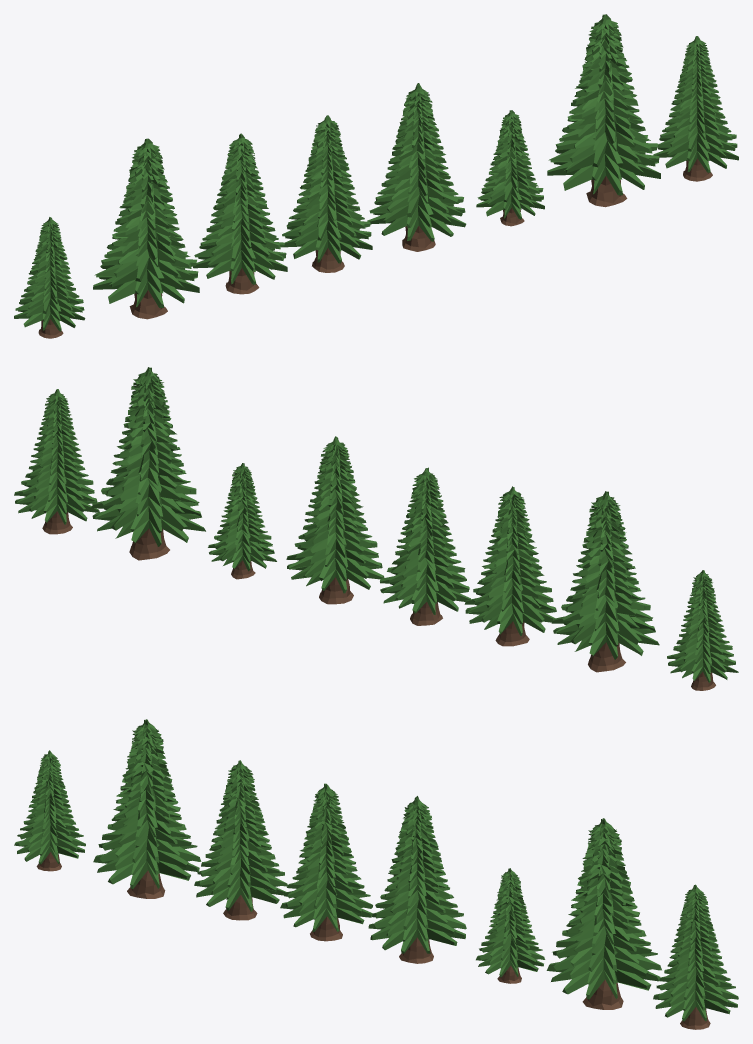
The model's file is christmastrees.fbx.
3 views of the same model, one above another, from view 1: azimuth 30°, elevation 25°; view 2: azimuth 150°, elevation 25°; view 3: azimuth 330°, elevation 25° (orthographic).
Visible parts, largest first — view 1: CT2, CT7, CT4, CT6, CT5, CT1, CT8, CT3; view 2: CT2, CT7, CT4, CT6, CT5, CT1, CT8, CT3; view 3: CT2, CT7, CT4, CT6, CT5, CT1, CT8, CT3.
Part boxes in pixels (x1=…): CT2: x1=547, y1=14, x2=660, y2=207; CT7: x1=93, y1=138, x2=199, y2=319; CT4: x1=367, y1=83, x2=466, y2=251; CT6: x1=193, y1=133, x2=287, y2=294; CT5: x1=280, y1=115, x2=372, y2=272; CT1: x1=653, y1=36, x2=738, y2=181; CT8: x1=14, y1=217, x2=85, y2=338; CT3: x1=476, y1=110, x2=544, y2=226; CT2: x1=91, y1=367, x2=205, y2=560; CT7: x1=551, y1=491, x2=659, y2=672; CT4: x1=286, y1=436, x2=384, y2=604; CT6: x1=464, y1=486, x2=556, y2=646; CT5: x1=380, y1=467, x2=470, y2=625; CT1: x1=14, y1=389, x2=99, y2=534; CT8: x1=667, y1=570, x2=738, y2=690; CT3: x1=208, y1=463, x2=276, y2=579; CT2: x1=546, y1=818, x2=661, y2=1009; CT7: x1=93, y1=719, x2=201, y2=898; CT4: x1=368, y1=796, x2=466, y2=963; CT6: x1=194, y1=760, x2=287, y2=920; CT5: x1=280, y1=783, x2=372, y2=941; CT1: x1=653, y1=884, x2=738, y2=1029; CT8: x1=14, y1=750, x2=85, y2=871; CT3: x1=476, y1=868, x2=545, y2=983.
Size of the model in its own units: 3906 by 976 by 515.
